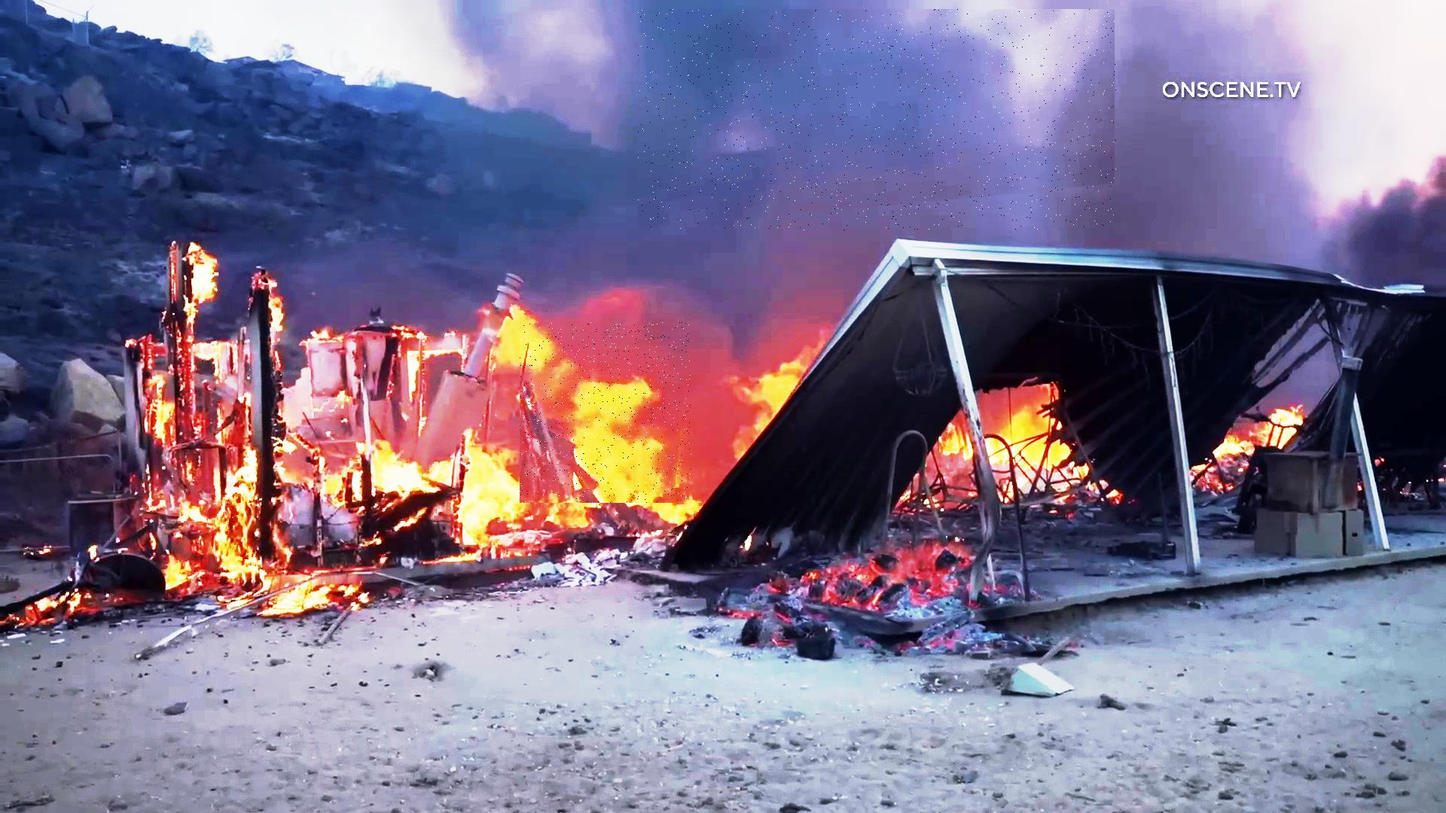fire: (520, 322, 692, 503)
smoke: (639, 10, 1117, 231)
